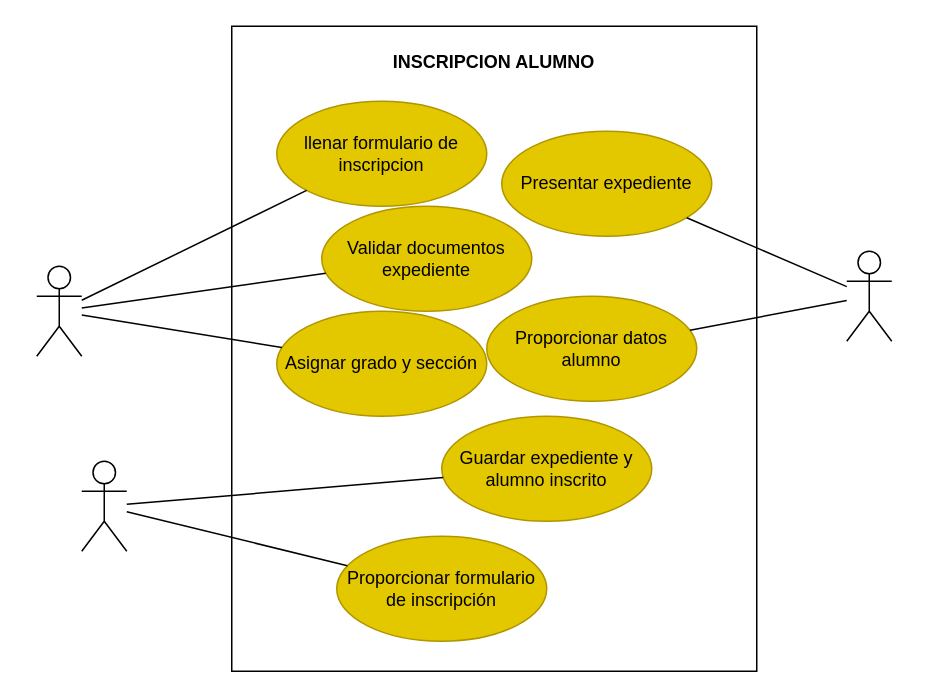
The diagram is 939 pixels wide and 698 high, and some of its shapes have lost their labels. Each missing label, with the centre of its shape:
Encargado: point (868, 295)
Profesor: point (58, 310)
Sistema: point (103, 505)
